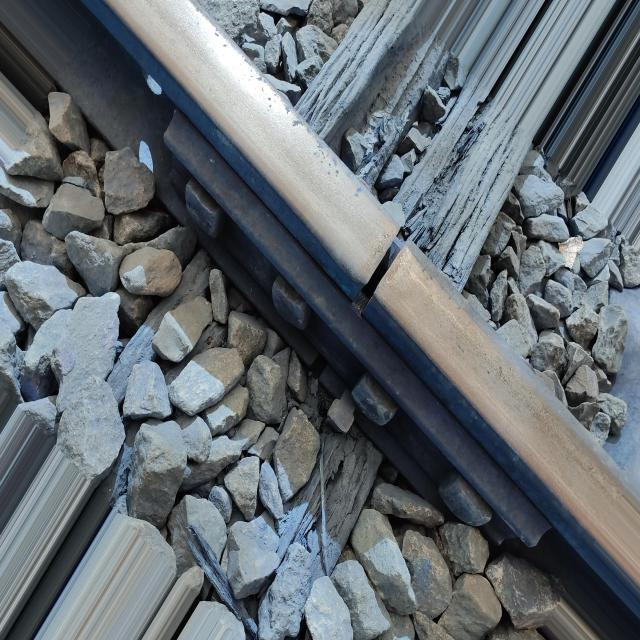broken_rail_medium: (247, 73, 267, 91), (291, 120, 313, 136), (312, 140, 325, 164), (214, 30, 228, 50), (327, 156, 340, 177), (266, 93, 277, 115), (422, 268, 433, 282), (455, 341, 465, 356), (353, 185, 363, 198), (485, 369, 491, 377), (285, 106, 290, 114)
